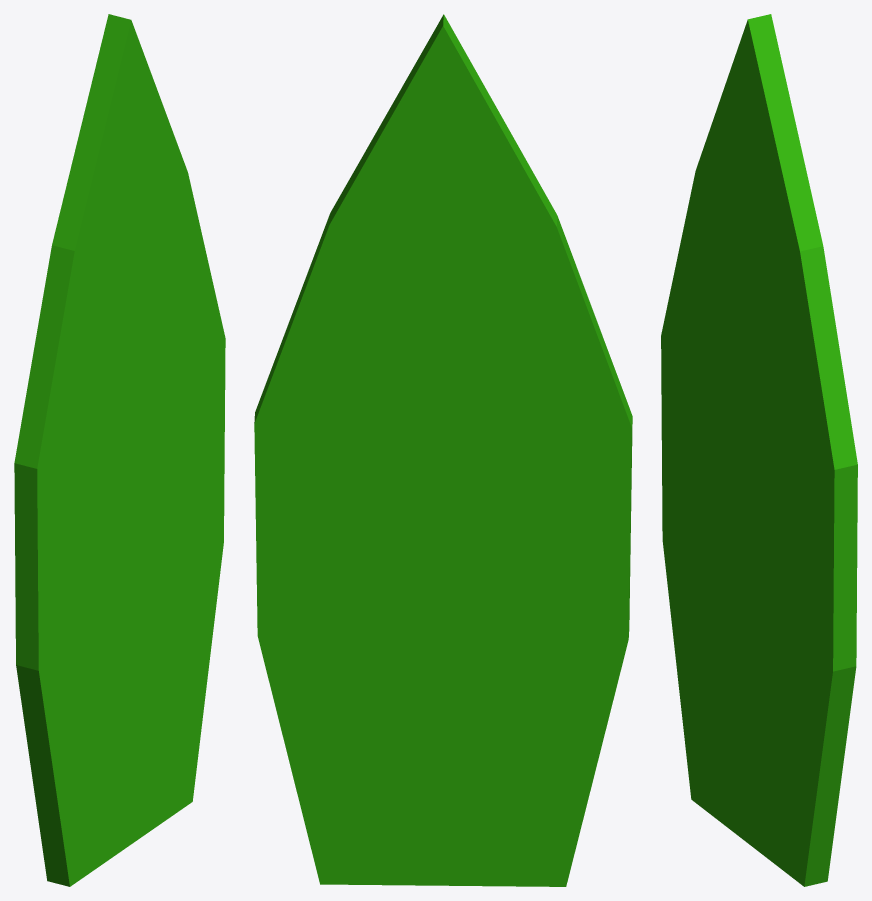
File: Rigged Grass Export 42.fbx
The picture shows the model from 3 angles, left to right: view 1: azimuth 30°, elevation 25°; view 2: azimuth 150°, elevation 25°; view 3: azimuth 270°, elevation 25°; orthographic projection. The views are drawn at different scales.
Parts seen in each view (by area): view 1: Grass 4 Right Left 2; view 2: Grass 4 Right Left 2; view 3: Grass 4 Right Left 2.
Part boxes in pixels (box(x1,y1,x2,y2)): Grass 4 Right Left 2: box(14, 14, 225, 886); Grass 4 Right Left 2: box(254, 14, 632, 886); Grass 4 Right Left 2: box(661, 14, 857, 886).
Bounding box in the file's own units: 120 × 331 × 71.76.
